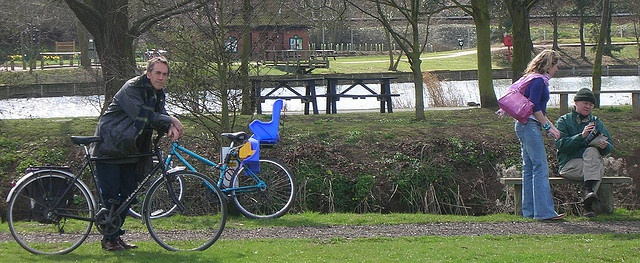non-vehicle: (5, 126, 231, 255), (127, 98, 297, 221)
